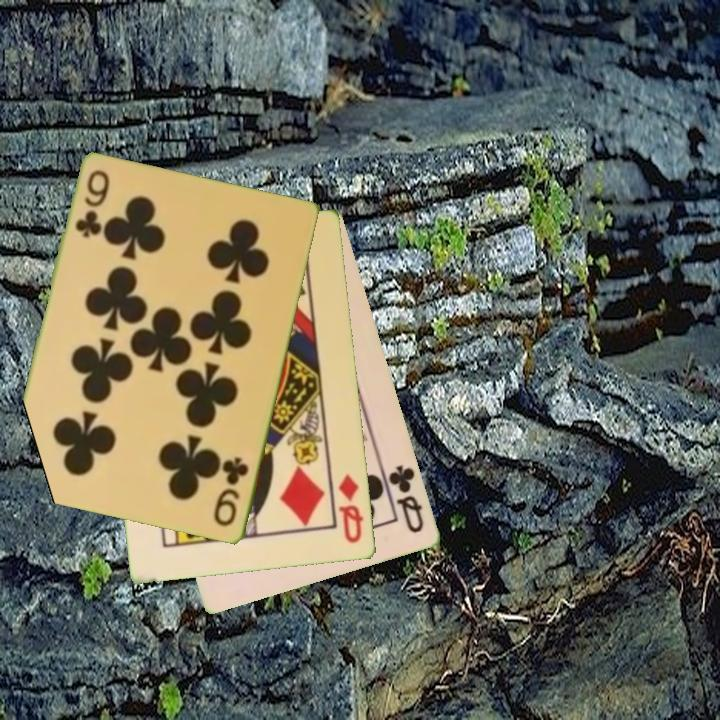9c: (211, 453, 252, 530), (72, 166, 113, 242)
Qc: (380, 461, 427, 537)
Qd: (335, 471, 367, 546)
